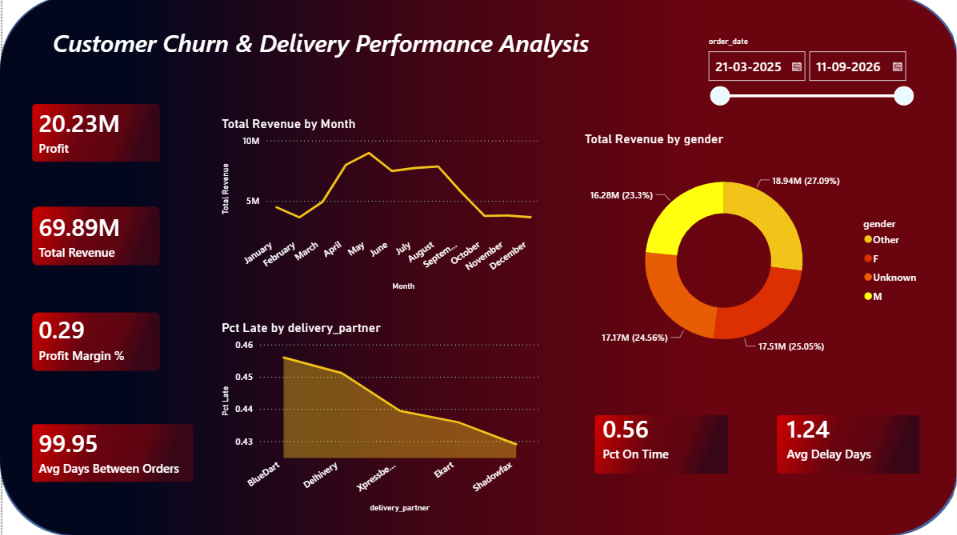

The dashboard page shown, as its layout file describes it:
{"tool":"powerbi","page":{"name":"Revenue & Retention,Delivery Ops","canvas":[1280,720],"ordinal":0},"visuals":[{"type":"cardVisual","fields":{"Data":["Key_Measures.Total Revenue"]},"box":[22.7,260,208,114.7],"z":0},{"type":"lineChart","fields":{"Y":["Key_Measures.Total Revenue"],"Category":["orders.order_date.Variation.Date Hierarchy.Month"]},"box":[290,158.6,434.3,238.6],"z":1000},{"type":"donutChart","fields":{"Category":["customers.gender"],"Y":["Key_Measures.Total Revenue"]},"box":[774.3,178.6,461.4,327.1],"z":2000},{"type":"cardVisual","fields":{"Data":["Key_Measures.Profit"]},"box":[22.3,121.4,208,115],"z":3000},{"type":"cardVisual","fields":{"Data":["Key_Measures.Profit Margin %"]},"box":[22.7,397.3,208,114.7],"z":4000},{"type":"textbox","box":[38.6,34.3,778.6,57.1],"z":5000},{"type":"slicer","fields":{"Values":["orders.order_date"]},"box":[932,48,294.7,110.7],"z":6000},{"type":"stackedAreaChart","fields":{"Category":["delivery_performance.delivery_partner"],"Y":["Key_Measures.Pct Late"]},"box":[290,430,433.8,261.2],"z":7000},{"type":"cardVisual","fields":{"Data":["Key_Measures.Pct On Time"]},"box":[774.7,529.3,214.7,114.7],"z":8000},{"type":"cardVisual","fields":{"Data":["Key_Measures.Avg Delay Days"]},"box":[1020,529.3,216,114.7],"z":9000},{"type":"cardVisual","fields":{"Data":["Key_Measures.Avg Days Between Orders"]},"box":[22.7,548,268,114.7],"z":10000}]}

Visuals, with their boxes in screenshot pixels (x1, y1, x2, y2), scaled from the page's 1280x720 canvas onto the 957x535 screenshot:
cardVisual - Key_Measures.Total Revenue: rect(17, 193, 172, 278)
lineChart - Key_Measures.Total Revenue x orders.order_date.Variation.Date Hierarchy.Month: rect(217, 118, 542, 295)
donutChart - customers.gender x Key_Measures.Total Revenue: rect(579, 133, 924, 376)
cardVisual - Key_Measures.Profit: rect(17, 90, 172, 176)
cardVisual - Key_Measures.Profit Margin %: rect(17, 295, 172, 380)
textbox: rect(29, 25, 611, 68)
slicer - orders.order_date: rect(697, 36, 917, 118)
stackedAreaChart - delivery_performance.delivery_partner x Key_Measures.Pct Late: rect(217, 320, 541, 514)
cardVisual - Key_Measures.Pct On Time: rect(579, 393, 740, 479)
cardVisual - Key_Measures.Avg Delay Days: rect(763, 393, 924, 479)
cardVisual - Key_Measures.Avg Days Between Orders: rect(17, 407, 217, 492)
